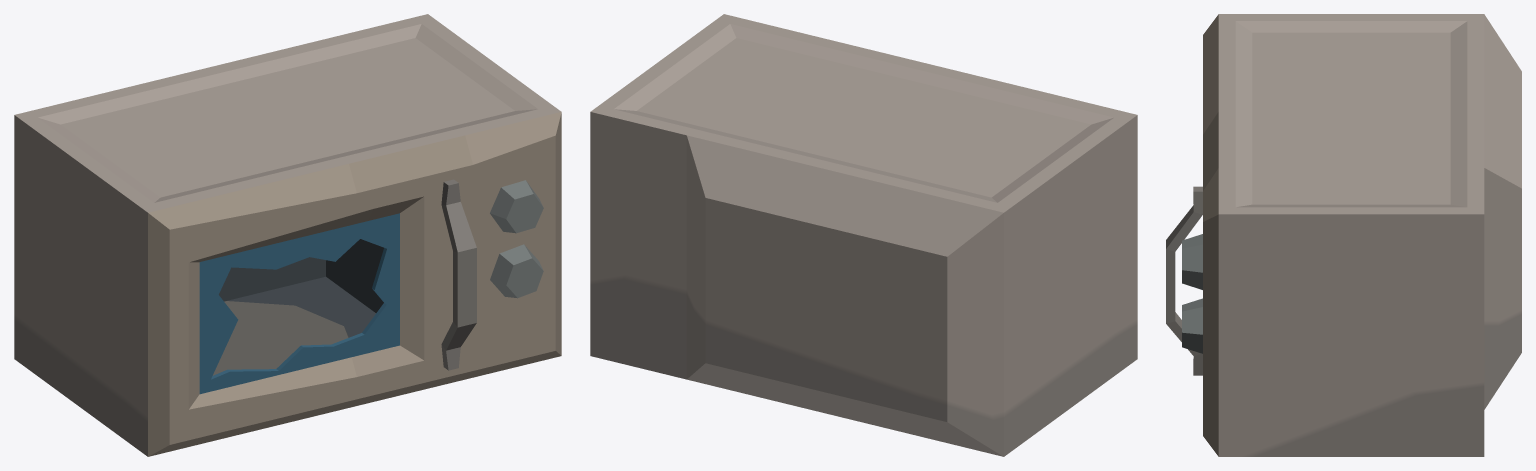
Rendered from SM_Microwave.gltf.
3 views of the same model, side by side, from view 1: azimuth 30°, elevation 25°; view 2: azimuth 150°, elevation 25°; view 3: azimuth 270°, elevation 25° (orthographic).
Parts seen in each view (by area): view 1: SM_Microwave, SM_Microwave_Door; view 2: SM_Microwave; view 3: SM_Microwave, SM_Microwave_Door.
Boxes of the visible parts, bbox=[...] form: SM_Microwave: bbox=[14, 14, 561, 456]; SM_Microwave_Door: bbox=[148, 135, 476, 456]; SM_Microwave: bbox=[590, 14, 1137, 456]; SM_Microwave: bbox=[1182, 14, 1521, 456]; SM_Microwave_Door: bbox=[1166, 14, 1218, 375].
Size of the model in its own units: 0.6956 by 0.3924 by 0.5218.
2 materials, 2 textured.
